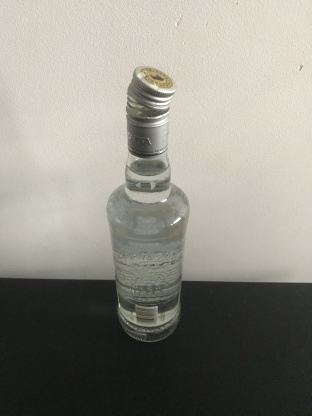nakretka: (124, 63, 177, 160)
